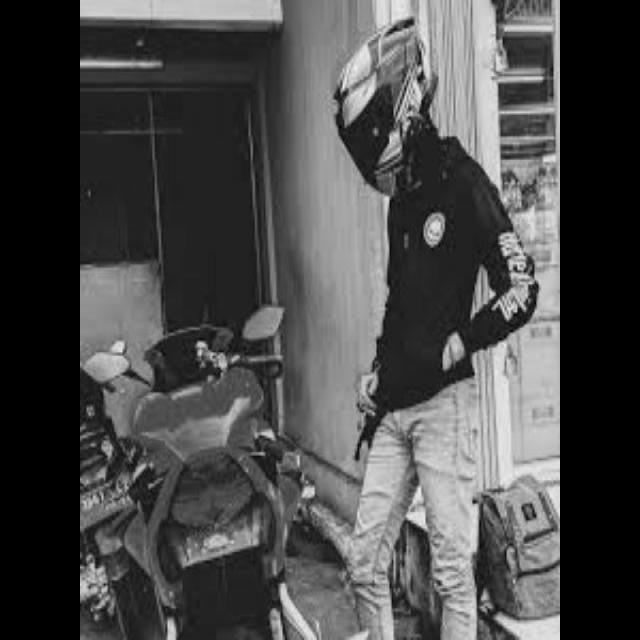5_casco: (334, 14, 440, 198)
